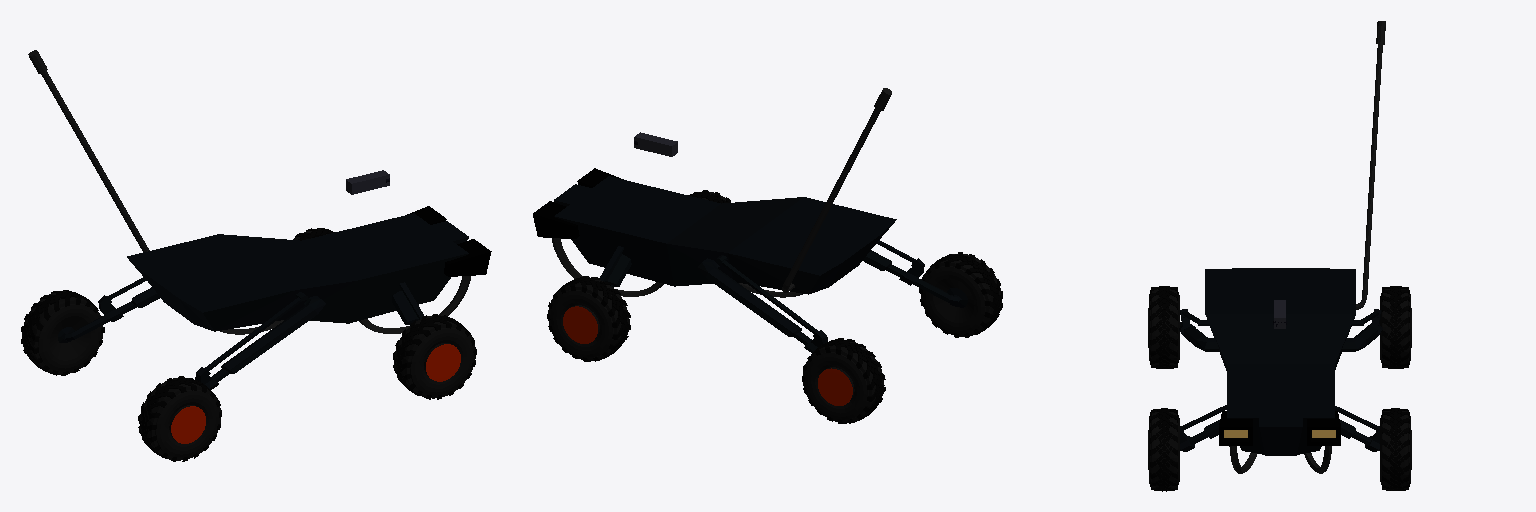
The robot description file, URDF, robot "rover":
<?xml version="1.0" encoding="utf-8"?>
<!-- rover_isaacsim.urdf -->
<!-- Plain URDF derived from the rover xacro for Isaac Sim import. -->
<!-- Gazebo and ros2_control plugins are intentionally omitted. -->
<robot name="rover">

  <!-- Root link carries the body visual to avoid importer warnings on empty roots. -->
  <link name="base_link">
    <inertial>
      <origin xyz="0 0 0" rpy="0 0 0"/>
      <mass value="200.0"/>
      <inertia ixx="20.0" ixy="0" ixz="0" iyy="20.0" iyz="0" izz="20.0"/>
    </inertial>
    <visual>
      <origin xyz="0.1 0 -0.04" rpy="0 0 0"/>
      <geometry>
        <mesh filename="../meshes/visual/rover.dae" scale="0.0105 0.00825 0.01"/>
      </geometry>
    </visual>
    <collision>
      <origin xyz="0 0 0" rpy="0 0 0"/>
      <geometry>
        <box size="0.65 0.22 0.08"/>
      </geometry>
    </collision>
  </link>

  <!-- Wheel geometry is the odometry reference: radius = 0.08 m, diameter = 0.16 m. -->
  <link name="wheel_rr">
    <inertial>
      <origin xyz="0 0 0" rpy="0 0 0"/>
      <mass value="1.0"/>
      <inertia ixx="0.1" ixy="0.0" ixz="0.0" iyy="0.1" iyz="0.0" izz="0.1"/>
    </inertial>
    <visual>
      <origin xyz="0 0 0" rpy="0 0 0"/>
      <geometry>
        <mesh filename="../meshes/visual/rover_wheel.dae" scale="1 1 1"/>
      </geometry>
    </visual>
    <collision>
      <origin xyz="0 0 0" rpy="0 0 0"/>
      <geometry>
        <cylinder length="0.05" radius="0.08"/>
      </geometry>
    </collision>
  </link>

  <link name="wheel_fr">
    <inertial>
      <origin xyz="0 0 0" rpy="0 0 0"/>
      <mass value="1.0"/>
      <inertia ixx="0.1" ixy="0.0" ixz="0.0" iyy="0.1" iyz="0.0" izz="0.1"/>
    </inertial>
    <visual>
      <origin xyz="0 0 0" rpy="0 0 0"/>
      <geometry>
        <mesh filename="../meshes/visual/rover_wheel.dae" scale="1 1 1"/>
      </geometry>
    </visual>
    <collision>
      <origin xyz="0 0 0" rpy="0 0 0"/>
      <geometry>
        <cylinder length="0.05" radius="0.08"/>
      </geometry>
    </collision>
  </link>

  <link name="wheel_rl">
    <inertial>
      <origin xyz="0 0 0" rpy="0 0 0"/>
      <mass value="1.0"/>
      <inertia ixx="0.1" ixy="0.0" ixz="0.0" iyy="0.1" iyz="0.0" izz="0.1"/>
    </inertial>
    <visual>
      <origin xyz="0 0 0" rpy="3.1416 0 0"/>
      <geometry>
        <mesh filename="../meshes/visual/rover_wheel.dae" scale="1 1 1"/>
      </geometry>
    </visual>
    <collision>
      <origin xyz="0 0 0" rpy="0 0 0"/>
      <geometry>
        <cylinder length="0.05" radius="0.08"/>
      </geometry>
    </collision>
  </link>

  <link name="wheel_fl">
    <inertial>
      <origin xyz="0 0 0" rpy="0 0 0"/>
      <mass value="1.0"/>
      <inertia ixx="0.1" ixy="0.0" ixz="0.0" iyy="0.1" iyz="0.0" izz="0.1"/>
    </inertial>
    <visual>
      <origin xyz="0 0 0" rpy="3.1416 0 0"/>
      <geometry>
        <mesh filename="../meshes/visual/rover_wheel.dae" scale="1 1 1"/>
      </geometry>
    </visual>
    <collision>
      <origin xyz="0 0 0" rpy="0 0 0"/>
      <geometry>
        <cylinder length="0.05" radius="0.08"/>
      </geometry>
    </collision>
  </link>

  <!-- Low passive losses so Isaac Sim can drive the wheels with velocity targets. -->
  <joint name="wheel_rr_joint" type="continuous">
    <parent link="base_link"/>
    <child link="wheel_rr"/>
    <origin xyz="-0.3 0.24 -0.1" rpy="-1.57079632679 0 0"/>
    <axis xyz="0 0 1"/>
    <limit effort="40.0" velocity="30.0"/>
    <dynamics damping="0.05" friction="0.0"/>
  </joint>

  <joint name="wheel_rl_joint" type="continuous">
    <parent link="base_link"/>
    <child link="wheel_rl"/>
    <origin xyz="-0.3 -0.24 -0.1" rpy="-1.57079632679 0 0"/>
    <axis xyz="0 0 1"/>
    <limit effort="40.0" velocity="30.0"/>
    <dynamics damping="0.05" friction="0.0"/>
  </joint>

  <joint name="wheel_fl_joint" type="continuous">
    <parent link="base_link"/>
    <child link="wheel_fl"/>
    <origin xyz="0.3 -0.24 -0.1" rpy="-1.57079632679 0 0"/>
    <axis xyz="0 0 1"/>
    <limit effort="40.0" velocity="30.0"/>
    <dynamics damping="0.05" friction="0.0"/>
  </joint>

  <joint name="wheel_fr_joint" type="continuous">
    <parent link="base_link"/>
    <child link="wheel_fr"/>
    <origin xyz="0.3 0.24 -0.1" rpy="-1.57079632679 0 0"/>
    <axis xyz="0 0 1"/>
    <limit effort="40.0" velocity="30.0"/>
    <dynamics damping="0.05" friction="0.0"/>
  </joint>

  <link name="imu_link">
    <inertial>
      <origin xyz="0 0 0" rpy="0 0 0"/>
      <mass value="0.001"/>
      <inertia ixx="1e-8" ixy="0" ixz="0" iyy="1e-8" iyz="0" izz="1e-8"/>
    </inertial>
    <visual>
      <geometry>
        <box size="0.02 0.02 0.01"/>
      </geometry>
      <material name="imu_visual">
        <color rgba="0.2 0.8 0.2 0.5"/>
      </material>
    </visual>
  </link>

  <joint name="imu_joint" type="fixed">
    <parent link="base_link"/>
    <child link="imu_link"/>
    <origin xyz="0 0 0" rpy="0 0 0"/>
  </joint>

  <!-- Front RGB-D camera styled after Intel RealSense D435/D455. -->
  <link name="front_rgbd_camera_link">
    <visual>
      <geometry>
        <box size="0.09 0.025 0.025"/>
      </geometry>
      <origin xyz="0 0 0" rpy="0 0 0"/>
      <material name="camera_body_dark">
        <color rgba="0.15 0.15 0.18 1.0"/>
      </material>
    </visual>
    <visual name="left_lens">
      <geometry>
        <cylinder length="0.01" radius="0.006"/>
      </geometry>
      <origin xyz="0.04 0.008 0" rpy="0 1.57079632679 0"/>
      <material name="camera_lens">
        <color rgba="0.05 0.05 0.08 1.0"/>
      </material>
    </visual>
    <visual name="right_lens">
      <geometry>
        <cylinder length="0.01" radius="0.006"/>
      </geometry>
      <origin xyz="0.04 -0.008 0" rpy="0 1.57079632679 0"/>
      <material name="camera_lens">
        <color rgba="0.05 0.05 0.08 1.0"/>
      </material>
    </visual>
    <inertial>
      <origin xyz="0 0 0" rpy="0 0 0"/>
      <mass value="0.09"/>
      <inertia ixx="5e-5" ixy="0.0" ixz="0.0" iyy="5e-5" iyz="0.0" izz="5e-5"/>
    </inertial>
  </link>

  <joint name="front_rgbd_camera_joint" type="fixed">
    <parent link="base_link"/>
    <child link="front_rgbd_camera_link"/>
    <origin xyz="0.28 0 0.2" rpy="0 0 0"/>
  </joint>

  <link name="front_rgb_frame">
    <visual>
      <geometry>
        <box size="0.001 0.001 0.001"/>
      </geometry>
      <material name="frame_invisible">
        <color rgba="0 0 0 0"/>
      </material>
    </visual>
    <inertial>
      <origin xyz="0 0 0" rpy="0 0 0"/>
      <mass value="0.001"/>
      <inertia ixx="1e-8" ixy="0.0" ixz="0.0" iyy="1e-8" iyz="0.0" izz="1e-8"/>
    </inertial>
  </link>

  <joint name="front_rgb_frame_joint" type="fixed">
    <parent link="front_rgbd_camera_link"/>
    <child link="front_rgb_frame"/>
    <origin xyz="0.045 0 0" rpy="0 0 0"/>
  </joint>

  <link name="front_rgb_optical_frame">
    <visual>
      <geometry>
        <box size="0.001 0.001 0.001"/>
      </geometry>
      <material name="frame_invisible">
        <color rgba="0 0 0 0"/>
      </material>
    </visual>
    <inertial>
      <origin xyz="0 0 0" rpy="0 0 0"/>
      <mass value="0.001"/>
      <inertia ixx="1e-8" ixy="0.0" ixz="0.0" iyy="1e-8" iyz="0.0" izz="1e-8"/>
    </inertial>
  </link>

  <joint name="front_rgb_optical_joint" type="fixed">
    <parent link="front_rgb_frame"/>
    <child link="front_rgb_optical_frame"/>
    <origin xyz="0 0 0" rpy="-1.57079632679 0 -1.57079632679"/>
  </joint>

  <link name="front_depth_frame">
    <visual>
      <geometry>
        <box size="0.001 0.001 0.001"/>
      </geometry>
      <material name="frame_invisible">
        <color rgba="0 0 0 0"/>
      </material>
    </visual>
    <inertial>
      <origin xyz="0 0 0" rpy="0 0 0"/>
      <mass value="0.001"/>
      <inertia ixx="1e-8" ixy="0.0" ixz="0.0" iyy="1e-8" iyz="0.0" izz="1e-8"/>
    </inertial>
  </link>

  <joint name="front_depth_frame_joint" type="fixed">
    <parent link="front_rgbd_camera_link"/>
    <child link="front_depth_frame"/>
    <origin xyz="0.045 0 0" rpy="0 0 0"/>
  </joint>

  <link name="front_depth_optical_frame">
    <visual>
      <geometry>
        <box size="0.001 0.001 0.001"/>
      </geometry>
      <material name="frame_invisible">
        <color rgba="0 0 0 0"/>
      </material>
    </visual>
    <inertial>
      <origin xyz="0 0 0" rpy="0 0 0"/>
      <mass value="0.001"/>
      <inertia ixx="1e-8" ixy="0.0" ixz="0.0" iyy="1e-8" iyz="0.0" izz="1e-8"/>
    </inertial>
  </link>

  <joint name="front_depth_optical_joint" type="fixed">
    <parent link="front_depth_frame"/>
    <child link="front_depth_optical_frame"/>
    <origin xyz="0 0 0" rpy="-1.57079632679 0 -1.57079632679"/>
  </joint>

  <link name="wheel_odom_frame">
    <visual>
      <geometry>
        <box size="0.001 0.001 0.001"/>
      </geometry>
      <material name="frame_invisible">
        <color rgba="0 0 0 0"/>
      </material>
    </visual>
    <inertial>
      <origin xyz="0 0 0" rpy="0 0 0"/>
      <mass value="0.001"/>
      <inertia ixx="1e-8" ixy="0.0" ixz="0.0" iyy="1e-8" iyz="0.0" izz="1e-8"/>
    </inertial>
  </link>

  <joint name="wheel_odom_joint" type="fixed">
    <parent link="base_link"/>
    <child link="wheel_odom_frame"/>
    <origin xyz="0 0 0" rpy="0 0 0"/>
  </joint>

</robot>

--- Render facts (derived) ---
The picture shows the robot from 3 angles, left to right: view 1: azimuth 30°, elevation 25°; view 2: azimuth 150°, elevation 25°; view 3: azimuth 270°, elevation 25°; orthographic projection.
Robot: rover — 12 links, 11 joints (4 continuous, 7 fixed); root link base_link; default pose: every joint at zero.
Visible links, largest first — view 1: base_link, wheel_fl, wheel_rl, wheel_rr, front_rgbd_camera_link; view 2: base_link, wheel_fr, wheel_rr, wheel_rl, front_rgbd_camera_link; view 3: base_link, wheel_fr, wheel_rl, wheel_fl, wheel_rr.
Link boxes in pixels (box(x1,y1,x2,y2)): base_link: box(28, 50, 491, 389); wheel_fl: box(393, 314, 476, 399); wheel_rl: box(138, 376, 221, 461); wheel_rr: box(21, 290, 104, 375); front_rgbd_camera_link: box(346, 170, 389, 194); base_link: box(533, 88, 967, 352); wheel_fr: box(547, 276, 630, 361); wheel_rr: box(802, 338, 885, 423); wheel_rl: box(919, 252, 1002, 337); front_rgbd_camera_link: box(634, 132, 677, 156); base_link: box(1179, 21, 1385, 473); wheel_fr: box(1380, 408, 1411, 490); wheel_rl: box(1148, 286, 1179, 368); wheel_fl: box(1148, 408, 1179, 491); wheel_rr: box(1380, 286, 1411, 368).
Size in the robot's own frame: 0.8951 by 0.5488 by 0.7527 metres.
Meshes: 2 distinct files referenced, 5 mesh visuals loaded (2 Collada DAE).
